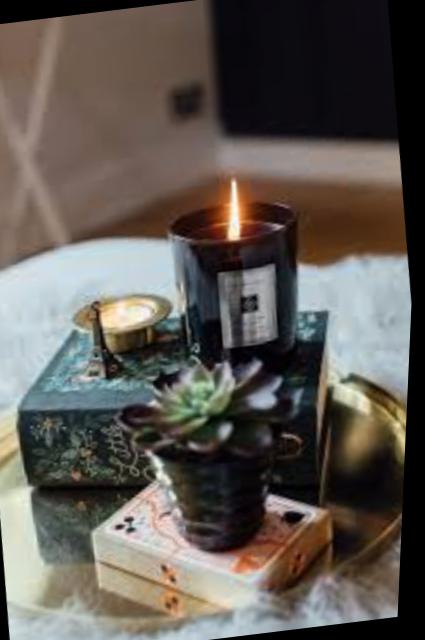fire: (219, 174, 251, 238)
